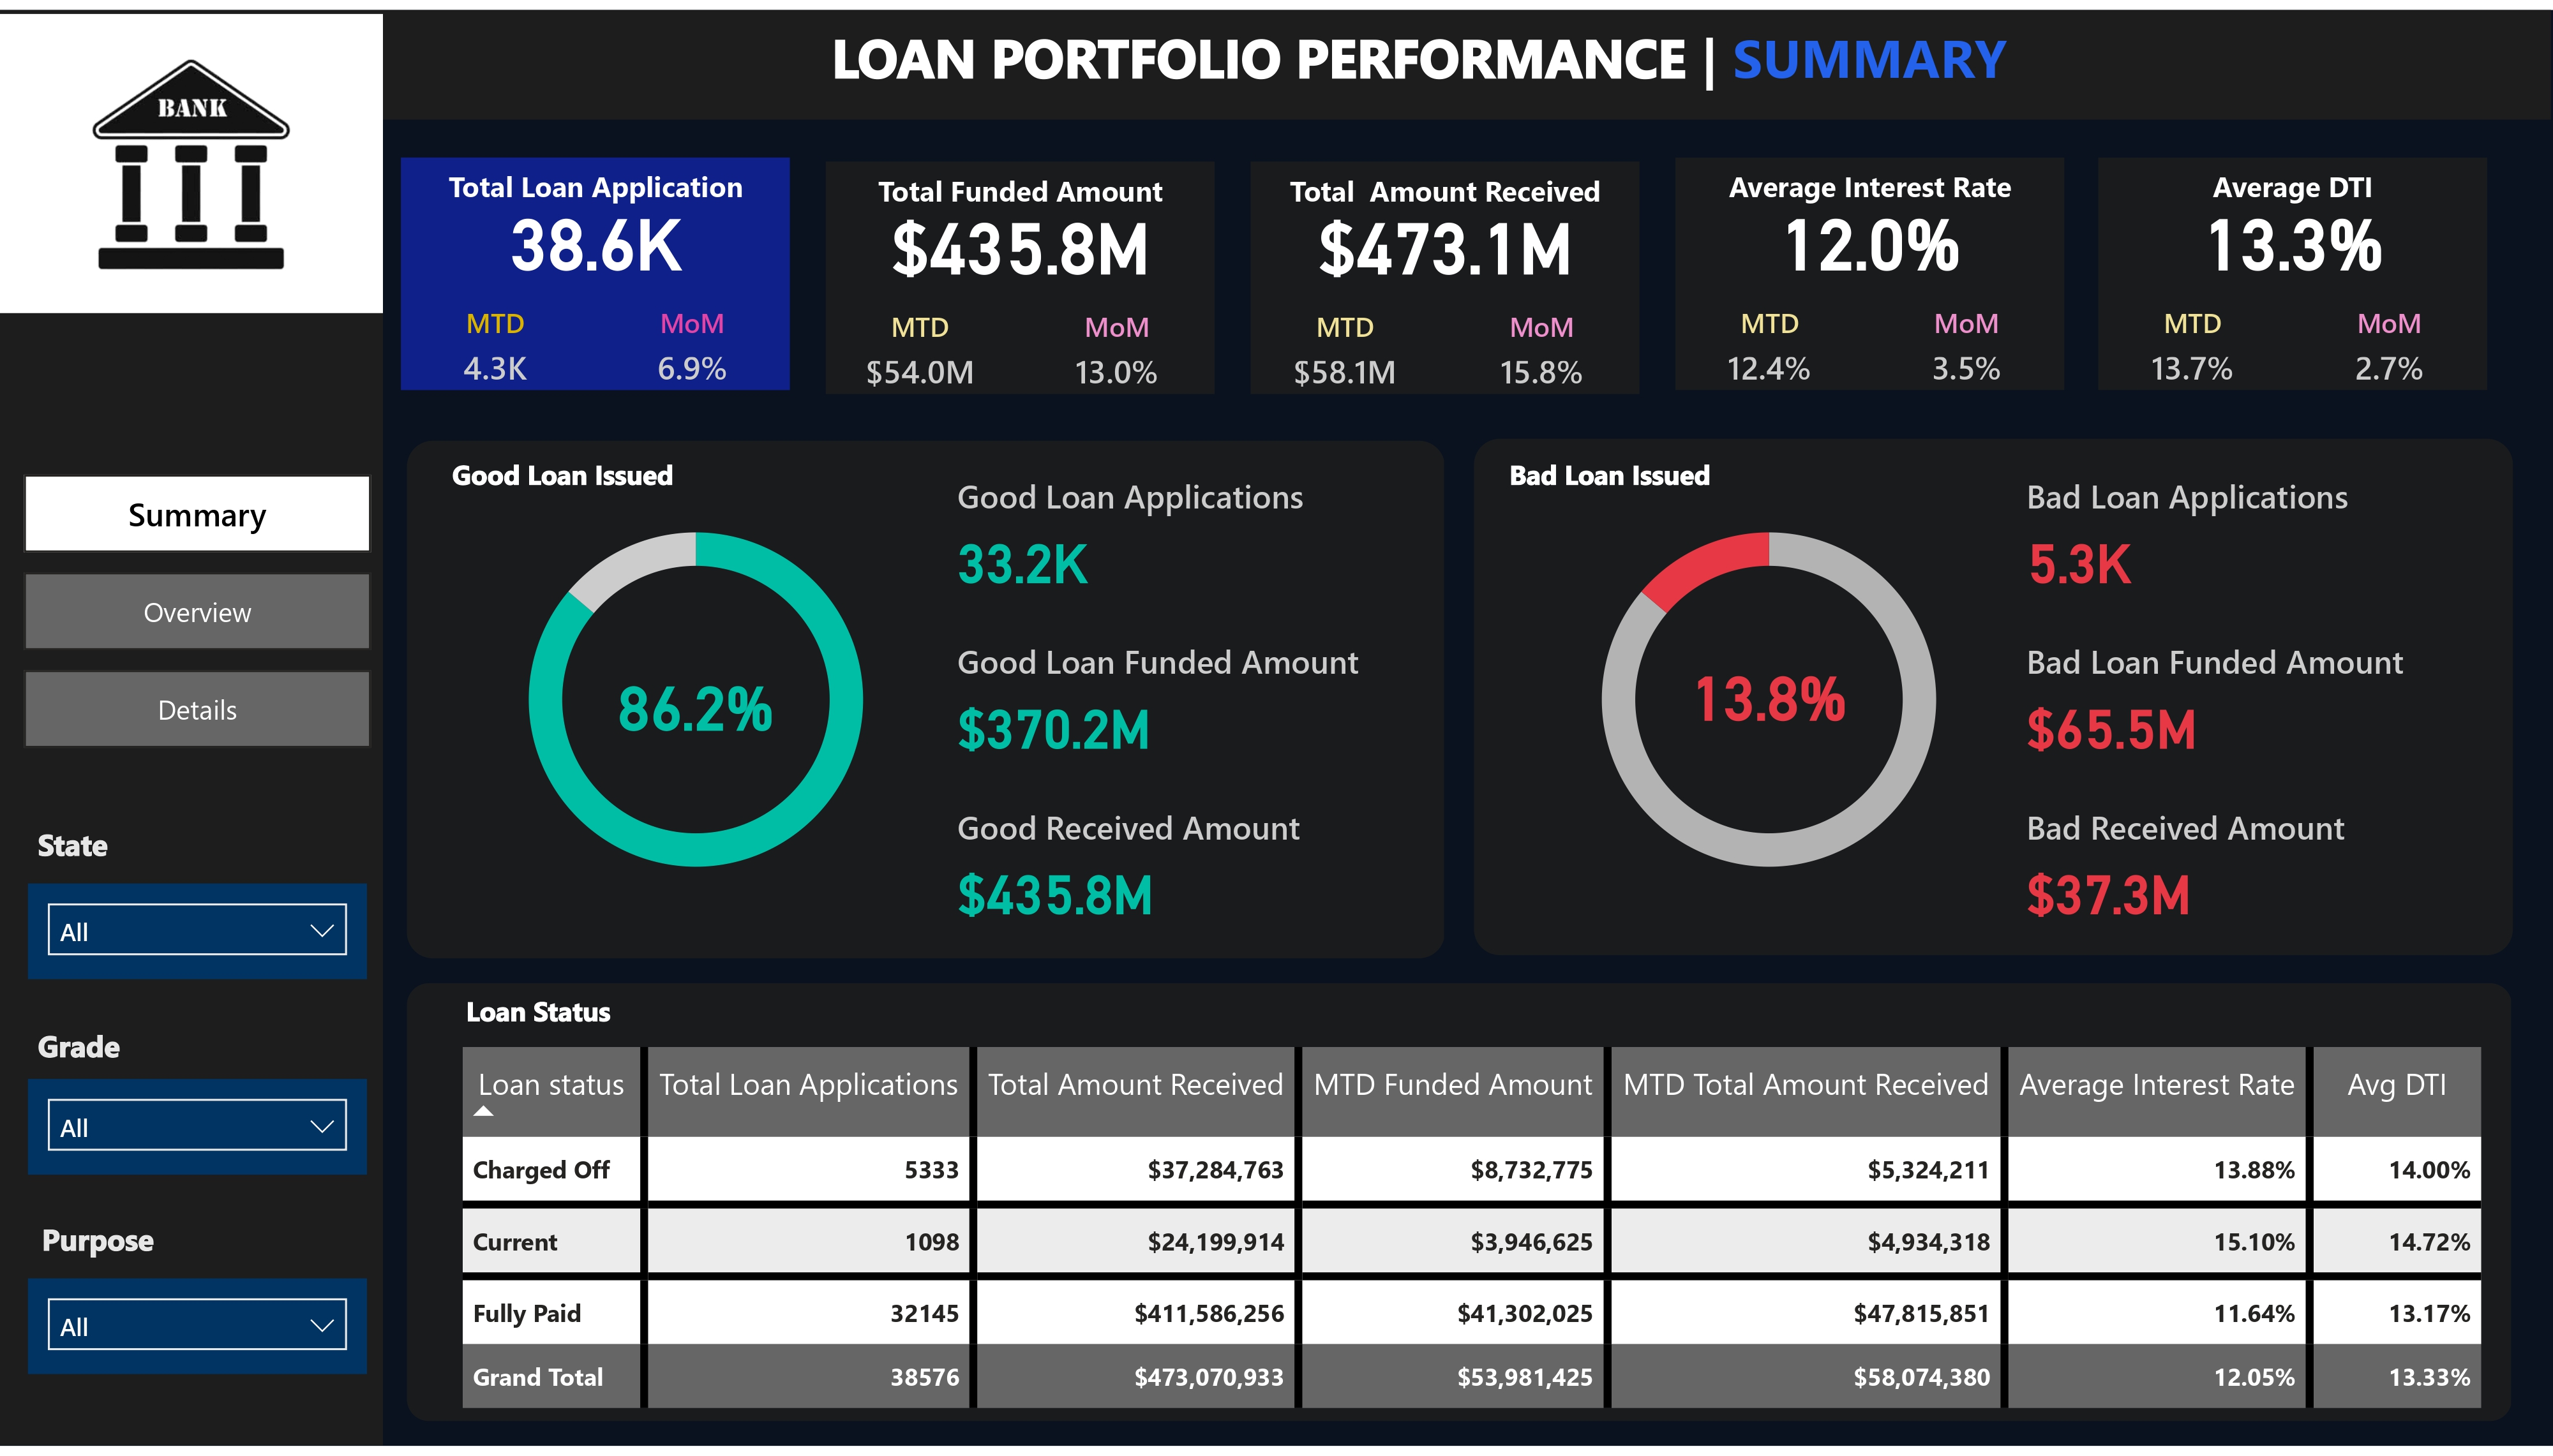

Layout of this report page (visuals, bound fields, positions):
{"tool":"powerbi","page":{"name":"Summary","canvas":[1280,720],"ordinal":0},"visuals":[{"type":"shape","box":[201.4,74.2,195.3,116.6],"z":0,"group":"g1"},{"type":"shape","box":[204.1,216.3,520.4,259.5],"z":0},{"type":"slicer","fields":{"Values":["bank_loan_data.purpose"]},"box":[13.6,636,169.5,48.5],"z":0,"group":"g6"},{"type":"shape","box":[839.6,74.2,195.3,116.6],"z":1000,"group":"g4"},{"type":"shape","box":[1052.4,74.2,195.3,116.6],"z":1000,"group":"g5"},{"type":"shape","box":[414.1,75.7,195.3,116.6],"z":1000,"group":"g2"},{"type":"shape","box":[626.9,75.7,195.3,116.6],"z":1000,"group":"g3"},{"type":"card","title":"Total Loan Applications","fields":{"Values":["bank_loan_data.Total Loan Applications"]},"box":[201.4,92.4,195.3,45.4],"z":1000,"group":"g1"},{"type":"donutChart","fields":{"Category":["bank_loan_data.Good vs Bad Loan"],"Y":["bank_loan_data.Total Loan Applications"]},"box":[224.1,236.2,249.8,219.6],"z":1000},{"type":"textbox","box":[15.2,601.2,169.5,34.8],"z":1000,"group":"g6"},{"type":"shape","box":[0,54.5,192.3,664.7],"z":2000},{"type":"textbox","box":[201.4,74.2,195.3,34.8],"z":2000,"group":"g1"},{"type":"shape","box":[0,0,1279.4,55],"z":3000},{"type":"card","title":"Total Loan Applications","fields":{"Values":["bank_loan_data.Average Interest Rate"]},"box":[839.6,92.4,195.3,45.4],"z":3000,"group":"g4"},{"type":"card","title":"Total Loan Applications","fields":{"Values":["bank_loan_data.Avg DTI"]},"box":[1052.4,92.4,195.3,45.4],"z":3000,"group":"g5"},{"type":"card","title":"Total Loan Applications","fields":{"Values":["bank_loan_data.Total Funded Amount"]},"box":[414.1,93.9,195.3,45.4],"z":3000,"group":"g2"},{"type":"card","title":"Total Loan Applications","fields":{"Values":["bank_loan_data.Total Amount Received"]},"box":[626.9,93.9,195.3,45.4],"z":3000,"group":"g3"},{"type":"card","title":"MTD ","fields":{"Values":["bank_loan_data.MTD Loan Application"]},"box":[215,148.4,66.6,42.4],"z":3000,"group":"g1"},{"type":"card","title":"MoM","fields":{"Values":["bank_loan_data.MoM Loan Applications"]},"box":[313.5,148.4,68.1,42.4],"z":4000,"group":"g1"},{"type":"textbox","box":[216.3,219,132.5,35.1],"z":4000},{"type":"textbox","box":[411.9,0,622.3,54.5],"z":5000},{"type":"textbox","box":[839.6,74.2,195.3,34.8],"z":5000,"group":"g4"},{"type":"textbox","box":[1052.4,74.2,195.3,34.8],"z":5000,"group":"g5"},{"type":"textbox","box":[414.1,75.7,195.3,34.8],"z":5000,"group":"g2"},{"type":"textbox","box":[626.9,75.7,195.3,34.8],"z":5000,"group":"g3"},{"type":"group","id":"g1","title":"Group 1","box":[201.4,74.2,195.3,116.6],"z":6000},{"type":"group","id":"g2","title":"Group 2","box":[414.1,75.7,195.3,116.6],"z":7000},{"type":"card","title":"MTD ","fields":{"Values":["bank_loan_data.MTD Average Interest Rate"]},"box":[853.2,148.4,66.6,42.4],"z":7000,"group":"g4"},{"type":"card","title":"MTD ","fields":{"Values":["bank_loan_data.MTD Avg DTI"]},"box":[1066,148.4,66.6,42.4],"z":7000,"group":"g5"},{"type":"card","title":"MTD ","fields":{"Values":["bank_loan_data.MTD Funded Amount"]},"box":[427.7,149.9,66.6,42.4],"z":7000,"group":"g2"},{"type":"card","title":"MTD ","fields":{"Values":["bank_loan_data.MTD Total Amount Received"]},"box":[640.5,149.9,66.6,42.4],"z":7000,"group":"g3"},{"type":"group","id":"g3","title":"Group 2","box":[626.9,75.7,195.3,116.6],"z":8000},{"type":"card","title":"MoM","fields":{"Values":["bank_loan_data.MoM Average Interest Rate"]},"box":[951.7,148.4,68.1,42.4],"z":8000,"group":"g4"},{"type":"card","title":"MoM","fields":{"Values":["bank_loan_data.MoM Avg DTI"]},"box":[1164.5,148.4,68.1,42.4],"z":8000,"group":"g5"},{"type":"card","title":"MoM","fields":{"Values":["bank_loan_data.MoM Funded Amount"]},"box":[526.2,149.9,68.1,42.4],"z":8000,"group":"g2"},{"type":"card","title":"MoM","fields":{"Values":["bank_loan_data.MoM Received Amount"]},"box":[739,149.9,68.1,42.4],"z":8000,"group":"g3"},{"type":"group","id":"g4","title":"Group 2","box":[839.6,74.2,195.3,116.6],"z":9000},{"type":"group","id":"g5","title":"Group 2","box":[1052.4,74.2,195.3,116.6],"z":10000},{"type":"shape","box":[738.9,215,520.9,258.9],"z":11000},{"type":"cardVisual","fields":{"Data":["bank_loan_data.Good Loan Applications","bank_loan_data.Good Loan Funded Amount","bank_loan_data.Good Received Amount"]},"box":[463.3,215,249.8,255.9],"z":12000},{"type":"donutChart","fields":{"Category":["bank_loan_data.Good vs Bad Loan"],"Y":["bank_loan_data.Total Loan Applications"]},"box":[761.6,236.2,249.8,219.6],"z":13000},{"type":"cardVisual","fields":{"Data":["bank_loan_data.Bad Loan Applications","bank_loan_data.Bad Loan Funded Amount","bank_loan_data.Bad Received Amount"]},"box":[999.4,215,249.8,255.9],"z":14000},{"type":"card","fields":{"Values":["bank_loan_data.Good Loan %"]},"box":[292.2,321,113.6,54.5],"z":15000},{"type":"card","fields":{"Values":["bank_loan_data.Bad Loan %"]},"box":[829.8,316.5,113.6,54.5],"z":16000},{"type":"shape","box":[204.4,487.6,1055.4,219.6],"z":17000},{"type":"tableEx","fields":{"Values":["bank_loan_data.loan_status","bank_loan_data.Total Loan Applications","bank_loan_data.Total Amount Received","bank_loan_data.MTD Funded Amount","bank_loan_data.MTD Total Amount Received","bank_loan_data.Average Interest Rate","bank_loan_data.Avg DTI"]},"box":[225.6,514.8,1023.6,192.3],"z":18000},{"type":"slicer","fields":{"Values":["bank_loan_data.address_state"]},"box":[13.6,437.6,169.5,48.5],"z":19000,"group":"g9"},{"type":"textbox","box":[225.6,487.6,87.8,34.8],"z":19000},{"type":"textbox","box":[740.7,219,132.5,35.1],"z":20000},{"type":"textbox","box":[13.6,402.8,169.5,34.8],"z":20000,"group":"g9"},{"type":"group","id":"g6","title":"Group 3","box":[13.6,601.2,171.1,83.3],"z":20000,"group":"g8"},{"type":"pageNavigator","box":[12.1,233.2,174.1,137.8],"z":21000},{"type":"group","id":"g7","title":"Group 4","box":[13.6,503.5,169.5,80.3],"z":21000,"group":"g8"},{"type":"slicer","fields":{"Values":["bank_loan_data.grade"]},"box":[13.6,535.3,169.5,48.5],"z":21000,"group":"g7"},{"type":"group","id":"g8","title":"Group 6","box":[13.6,402.8,171.1,281.6],"z":22000},{"type":"group","id":"g9","title":"Group 5","box":[13.6,402.8,169.5,83.3],"z":22000,"group":"g8"},{"type":"textbox","box":[13.6,503.5,169.5,34.8],"z":22001,"group":"g7"},{"type":"image","box":[0,1.5,192.3,149.9],"z":23000}]}

Visuals, with their boxes in screenshot pixels (x1, y1, x2, y2), scaled from the page's 1280x720 canvas onto the 2553x1456 screenshot:
shape: (left=401, top=150, right=791, bottom=386)
shape: (left=407, top=438, right=1445, bottom=962)
slicer - bank_loan_data.purpose: (left=27, top=1286, right=365, bottom=1384)
shape: (left=1675, top=150, right=2064, bottom=386)
shape: (left=2099, top=150, right=2489, bottom=386)
shape: (left=826, top=153, right=1215, bottom=389)
shape: (left=1250, top=153, right=1640, bottom=389)
"Total Loan Applications" card: (left=401, top=187, right=791, bottom=279)
donutChart - bank_loan_data.Good vs Bad Loan x bank_loan_data.Total Loan Applications: (left=447, top=478, right=945, bottom=922)
textbox: (left=31, top=1215, right=368, bottom=1286)
shape: (left=0, top=110, right=384, bottom=1454)
textbox: (left=401, top=150, right=791, bottom=220)
shape: (left=0, top=0, right=2552, bottom=111)
"Total Loan Applications" card: (left=1675, top=187, right=2064, bottom=279)
"Total Loan Applications" card: (left=2099, top=187, right=2489, bottom=279)
"Total Loan Applications" card: (left=826, top=190, right=1215, bottom=282)
"Total Loan Applications" card: (left=1250, top=190, right=1640, bottom=282)
"MTD " card: (left=429, top=300, right=562, bottom=386)
"MoM" card: (left=625, top=300, right=761, bottom=386)
textbox: (left=431, top=443, right=696, bottom=514)
textbox: (left=821, top=0, right=2063, bottom=110)
textbox: (left=1675, top=150, right=2064, bottom=220)
textbox: (left=2099, top=150, right=2489, bottom=220)
textbox: (left=826, top=153, right=1215, bottom=223)
textbox: (left=1250, top=153, right=1640, bottom=223)
"Group 1" group: (left=401, top=150, right=791, bottom=386)
"Group 2" group: (left=826, top=153, right=1215, bottom=389)
"MTD " card: (left=1702, top=300, right=1834, bottom=386)
"MTD " card: (left=2126, top=300, right=2259, bottom=386)
"MTD " card: (left=853, top=303, right=986, bottom=389)
"MTD " card: (left=1278, top=303, right=1411, bottom=389)
"Group 2" group: (left=1250, top=153, right=1640, bottom=389)
"MoM" card: (left=1898, top=300, right=2034, bottom=386)
"MoM" card: (left=2323, top=300, right=2459, bottom=386)
"MoM" card: (left=1049, top=303, right=1185, bottom=389)
"MoM" card: (left=1474, top=303, right=1610, bottom=389)
"Group 2" group: (left=1675, top=150, right=2064, bottom=386)
"Group 2" group: (left=2099, top=150, right=2489, bottom=386)
shape: (left=1474, top=435, right=2513, bottom=958)
cardVisual - bank_loan_data.Good Loan Applications x bank_loan_data.Good Loan Funded Amount: (left=924, top=435, right=1422, bottom=952)
donutChart - bank_loan_data.Good vs Bad Loan x bank_loan_data.Total Loan Applications: (left=1519, top=478, right=2018, bottom=922)
cardVisual - bank_loan_data.Bad Loan Applications x bank_loan_data.Bad Loan Funded Amount: (left=1993, top=435, right=2492, bottom=952)
card - bank_loan_data.Good Loan %: (left=583, top=649, right=809, bottom=759)
card - bank_loan_data.Bad Loan %: (left=1655, top=640, right=1882, bottom=750)
shape: (left=408, top=986, right=2513, bottom=1430)
tableEx - bank_loan_data.loan_status x bank_loan_data.Total Loan Applications: (left=450, top=1041, right=2492, bottom=1430)
slicer - bank_loan_data.address_state: (left=27, top=885, right=365, bottom=983)
textbox: (left=450, top=986, right=625, bottom=1057)
textbox: (left=1478, top=443, right=1742, bottom=514)
textbox: (left=27, top=815, right=365, bottom=885)
"Group 3" group: (left=27, top=1215, right=368, bottom=1384)
pageNavigator: (left=24, top=472, right=371, bottom=750)
"Group 4" group: (left=27, top=1018, right=365, bottom=1180)
slicer - bank_loan_data.grade: (left=27, top=1083, right=365, bottom=1180)
"Group 6" group: (left=27, top=815, right=368, bottom=1384)
"Group 5" group: (left=27, top=815, right=365, bottom=983)
textbox: (left=27, top=1018, right=365, bottom=1088)
image: (left=0, top=3, right=384, bottom=306)
